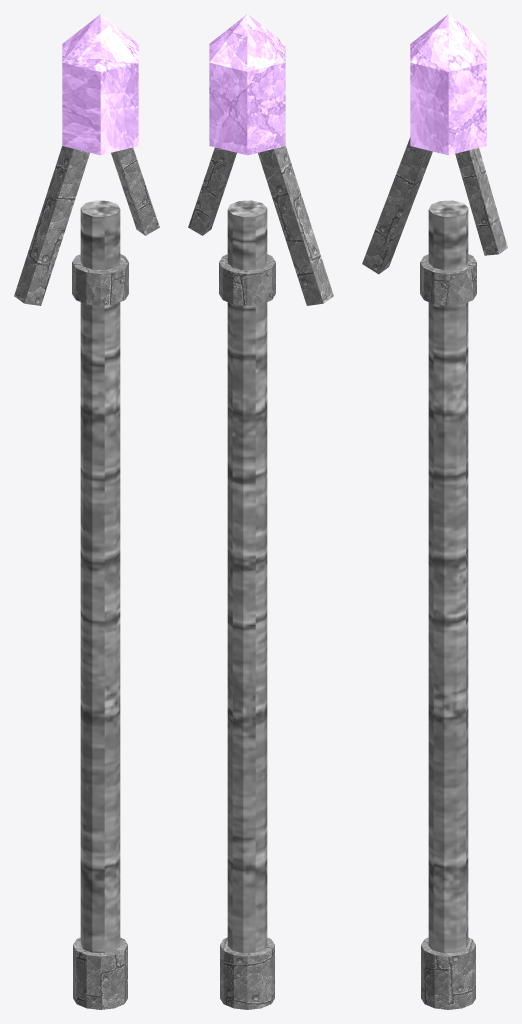
File: staff-seidr-simple.glb
The picture shows the model from 3 angles, left to right: view 1: azimuth 30°, elevation 25°; view 2: azimuth 150°, elevation 25°; view 3: azimuth 330°, elevation 25°; orthographic projection.
Parts seen in each view (by area): view 1: shaft, hex, crook-left, pommel, neck, crook-right; view 2: shaft, hex, crook-left, pommel, neck, crook-right; view 3: shaft, hex, crook-left, pommel, crook-right, neck.
Boxes of the visible parts, x1,y1,x2,y2 form: shaft: [80, 200, 120, 953]; hex: [62, 14, 138, 155]; crook-left: [14, 146, 89, 305]; pommel: [73, 937, 127, 1009]; neck: [72, 254, 128, 305]; crook-right: [111, 147, 159, 235]; shaft: [227, 200, 267, 953]; hex: [209, 14, 285, 155]; crook-left: [258, 146, 333, 305]; pommel: [220, 937, 274, 1009]; neck: [219, 254, 275, 305]; crook-right: [188, 147, 236, 235]; shaft: [428, 200, 468, 953]; hex: [410, 14, 486, 155]; crook-left: [362, 137, 432, 274]; pommel: [421, 937, 475, 1009]; crook-right: [455, 148, 507, 255]; neck: [420, 254, 476, 305].
Size of the model in its own units: 0.2675 by 1.84 by 0.1299.
4 materials, 4 textured.
